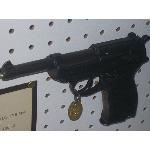Pistol: (0, 31, 150, 126)
